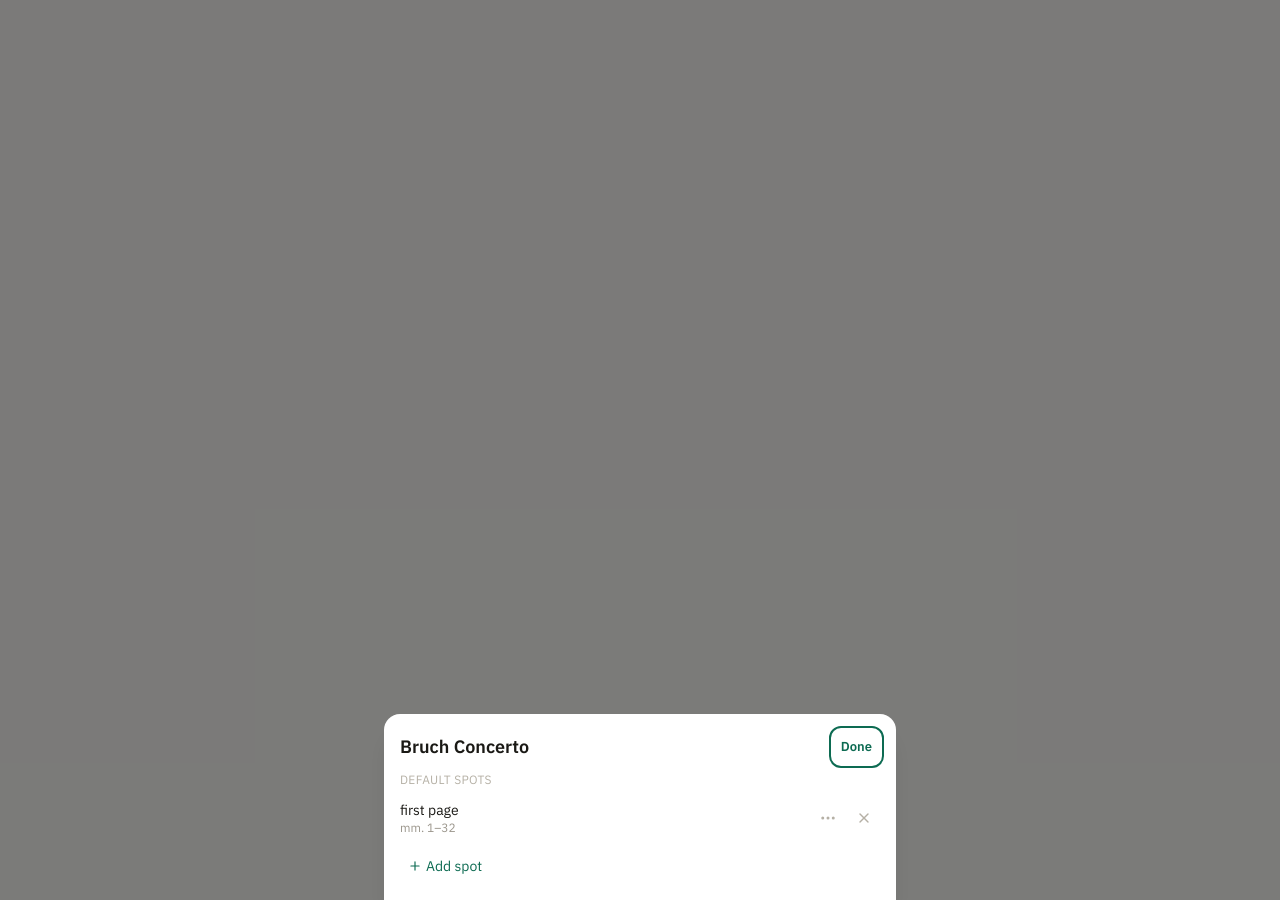
Test: SpotManagementDrawer › surfaces a write failure without closing the drawer
Click the button named "Remove first page from defaults".
click(864, 818)  # box [848,802,880,834]
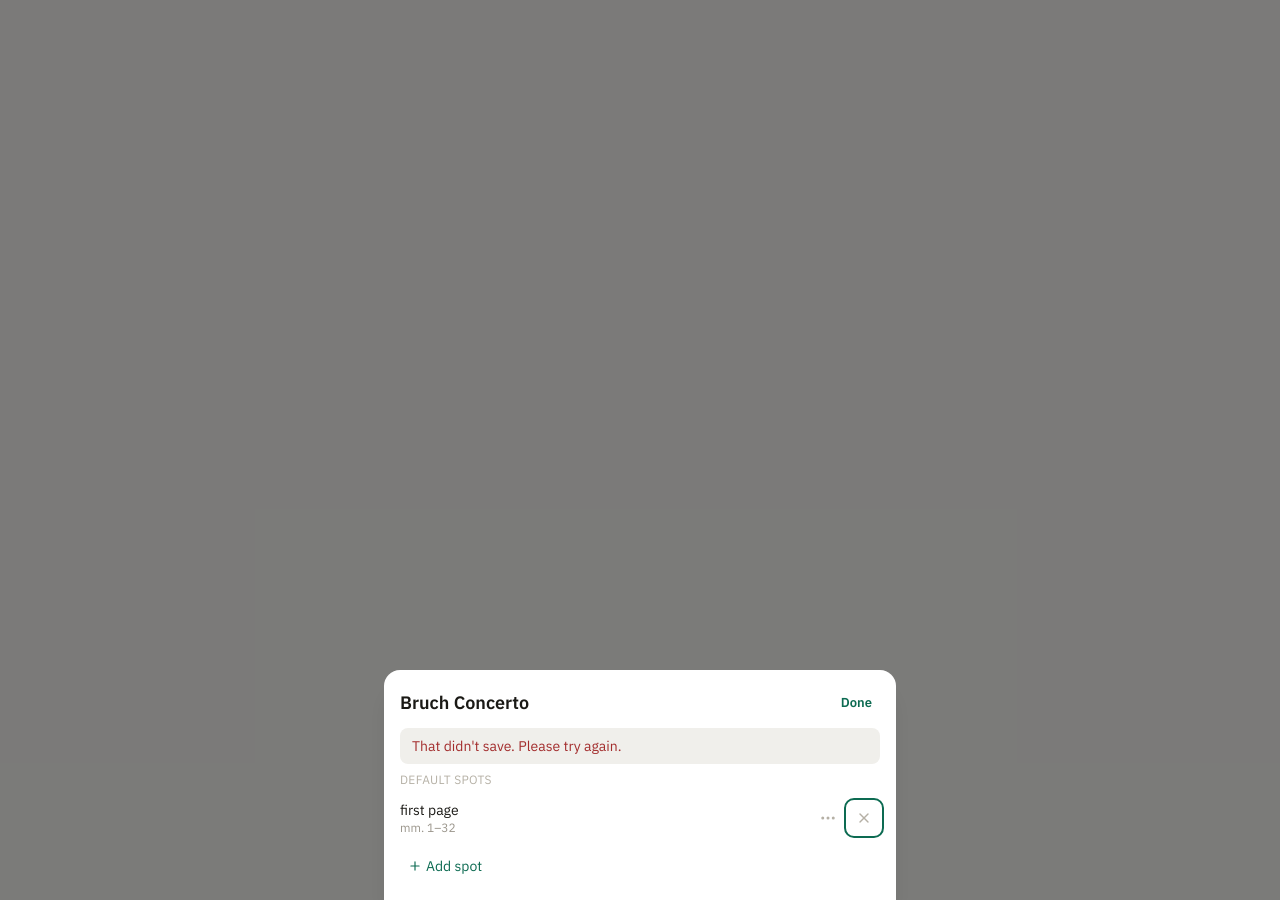
Check: the message shows "didn't save", box [412,737,622,755]
